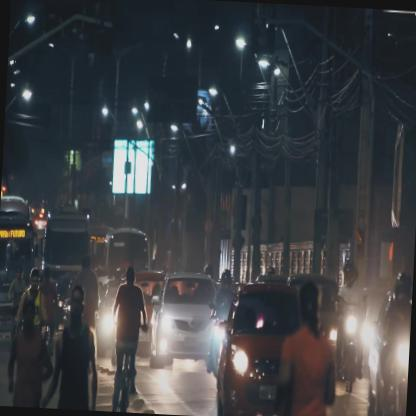bus: (0, 198, 35, 330), (41, 210, 92, 288), (98, 228, 152, 281)
car: (214, 282, 309, 415), (148, 272, 216, 371)
motorcycle: (333, 258, 370, 392), (380, 270, 413, 415), (210, 267, 234, 382)
